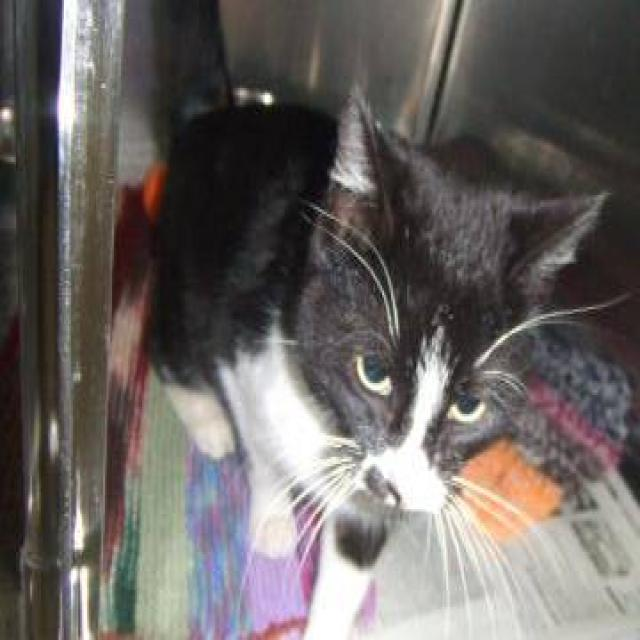cat: (144, 79, 633, 628)
